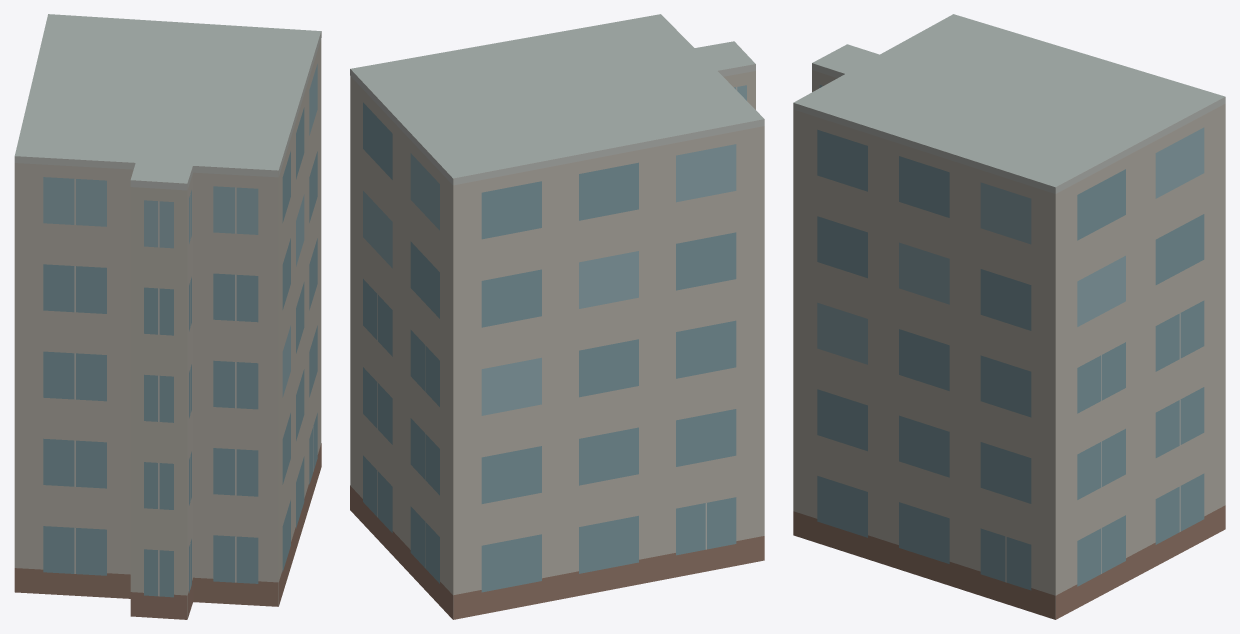
File: survey-upis-32637216.glb
3 views of the same model, side by side, from view 1: azimuth 30°, elevation 25°; view 2: azimuth 150°, elevation 25°; view 3: azimuth 270°, elevation 25° (orthographic). The views are drawn at different scales.
Visible parts, largest first — view 1: survey-upis-32637216.tmp; view 2: survey-upis-32637216.tmp; view 3: survey-upis-32637216.tmp.
Boxes of the visible parts, bbox=[...] form: survey-upis-32637216.tmp: bbox=[14, 14, 321, 619]; survey-upis-32637216.tmp: bbox=[350, 14, 764, 619]; survey-upis-32637216.tmp: bbox=[793, 14, 1225, 619].
Bounding box in the file's own units: 13.36 × 15.54 × 14.08.
